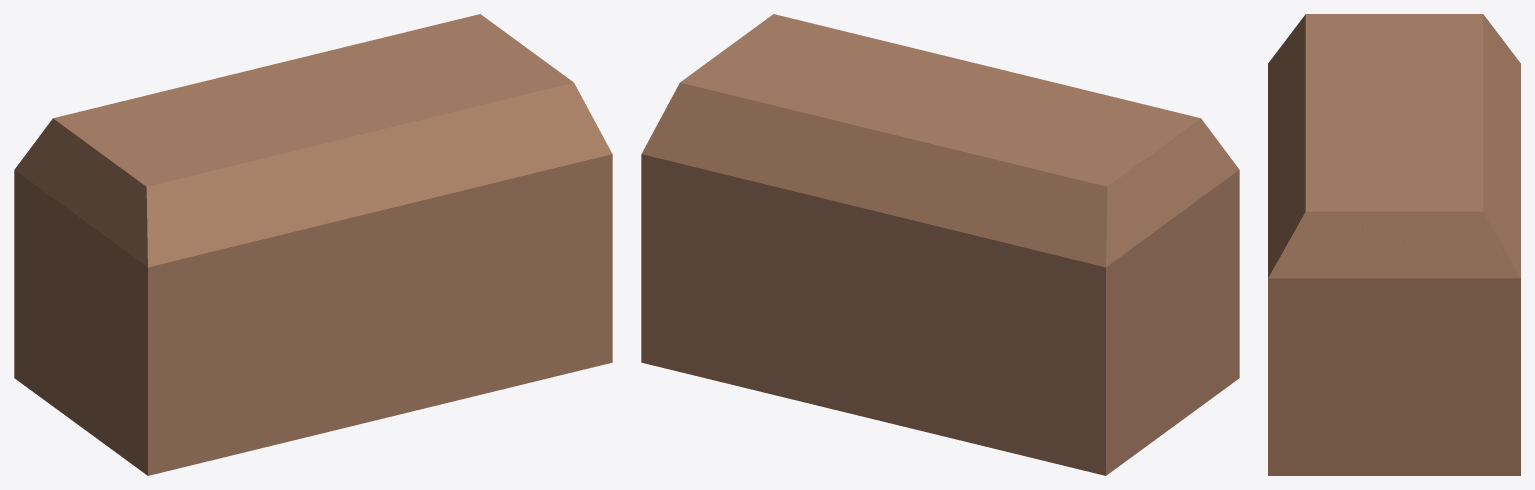
File: BreadBrick.fbx
The picture shows the model from 3 angles, left to right: view 1: azimuth 30°, elevation 25°; view 2: azimuth 150°, elevation 25°; view 3: azimuth 270°, elevation 25°; orthographic projection. The views are drawn at different scales.
Visible parts, largest first — view 1: Cube; view 2: Cube; view 3: Cube.
Boxes of the visible parts, x1,y1,x2,y2 form: Cube: (14, 14, 612, 475); Cube: (641, 14, 1239, 475); Cube: (1268, 14, 1520, 475).
Bounding box in the file's own units: 28.36 × 15.76 × 14.12.
